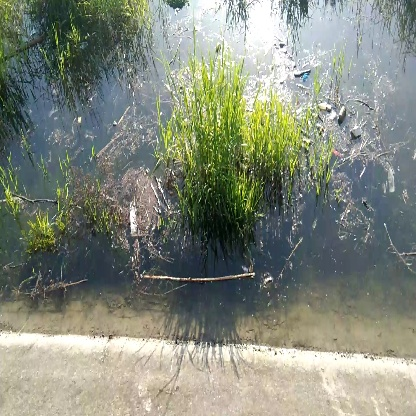branch: (137, 259, 274, 293)
